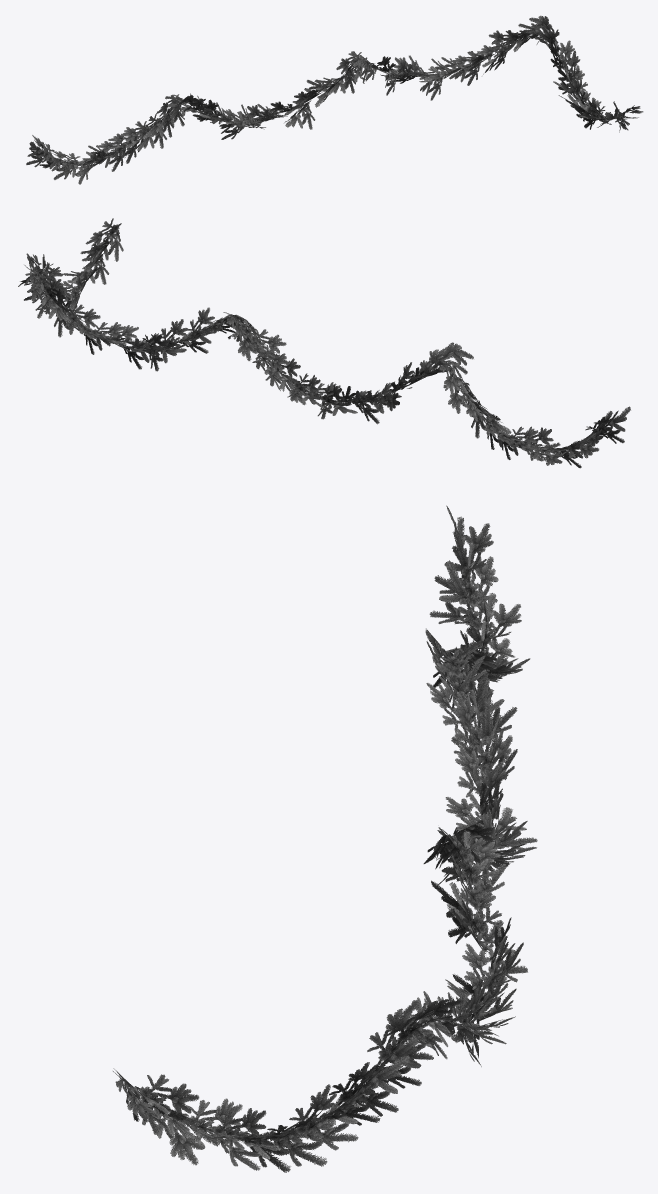
The model's file is xmas_garland.fbx.
The picture shows the model from 3 angles, top to bottom: view 1: azimuth 30°, elevation 25°; view 2: azimuth 150°, elevation 25°; view 3: azimuth 270°, elevation 25°; orthographic projection. The views are drawn at different scales.
Parts seen in each view (by area): view 1: xmas_garland_1; view 2: xmas_garland_1; view 3: xmas_garland_1.
Part boxes in pixels (x1=…): xmas_garland_1: x1=26, y1=15, x2=643, y2=184; xmas_garland_1: x1=18, y1=218, x2=630, y2=468; xmas_garland_1: x1=113, y1=505, x2=537, y2=1172.
Size of the model in its own units: 474 by 79.49 by 163.
